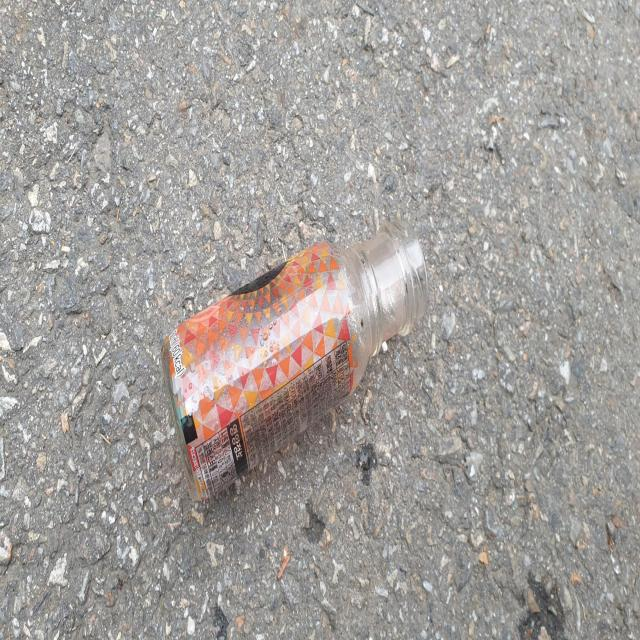glass: (161, 220, 428, 499)
